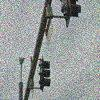traffic lights: (37, 55, 52, 92), (68, 0, 81, 22)
